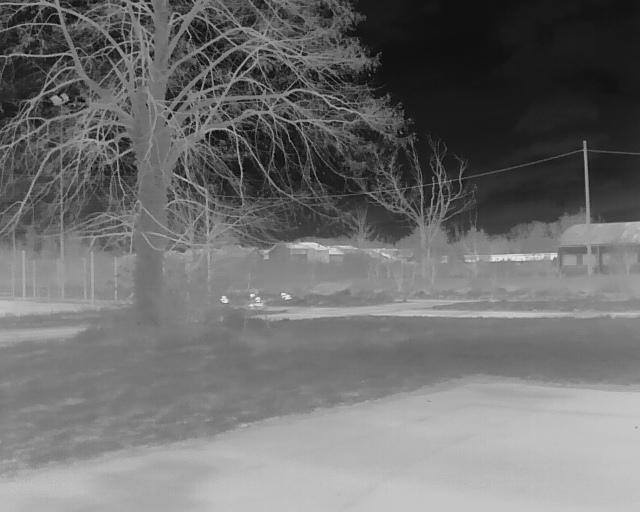drone: (210, 288, 301, 340)
